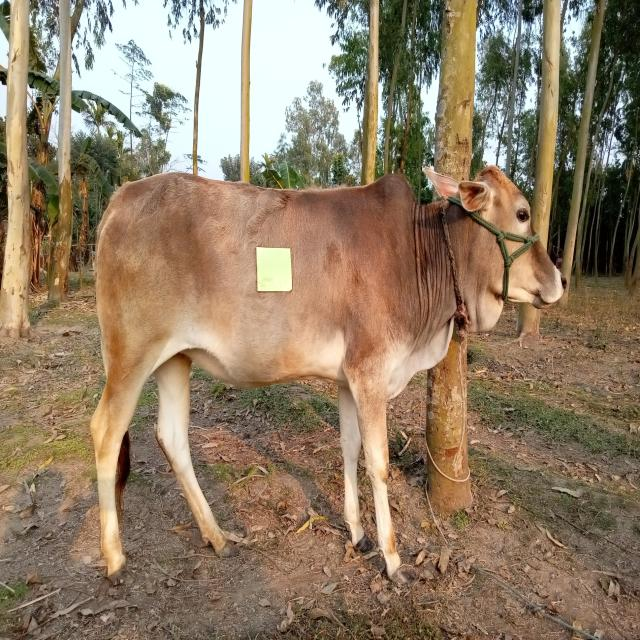badan_sapi: (122, 187, 394, 398)
sapi: (87, 165, 572, 591)
